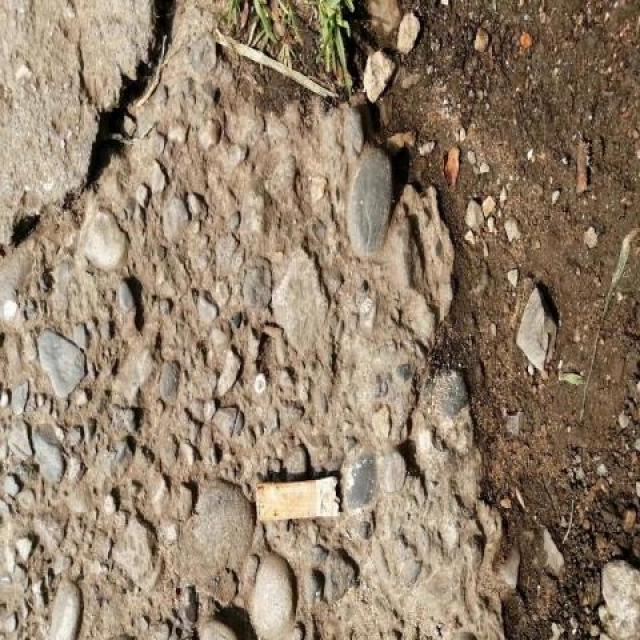non-organic waste: (250, 466, 350, 530)
